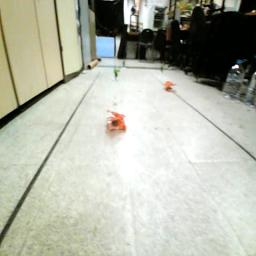herb: (114, 68, 121, 80)
wild: (107, 108, 128, 132), (164, 82, 177, 93)
